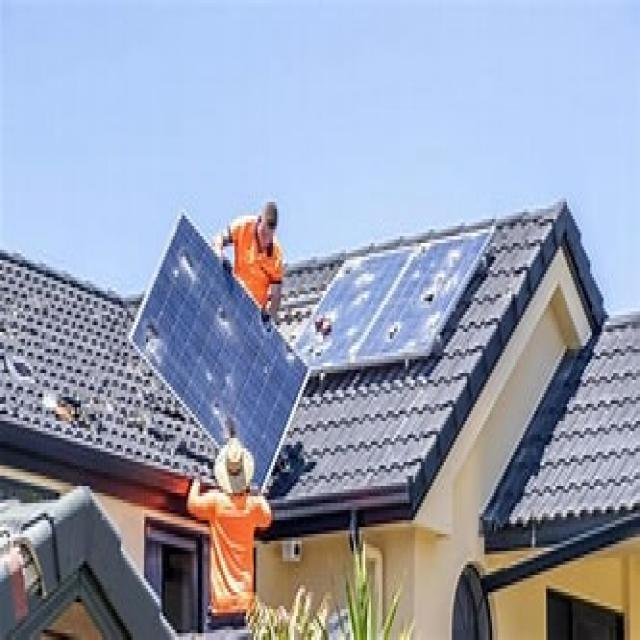faulty: (290, 228, 491, 359)
